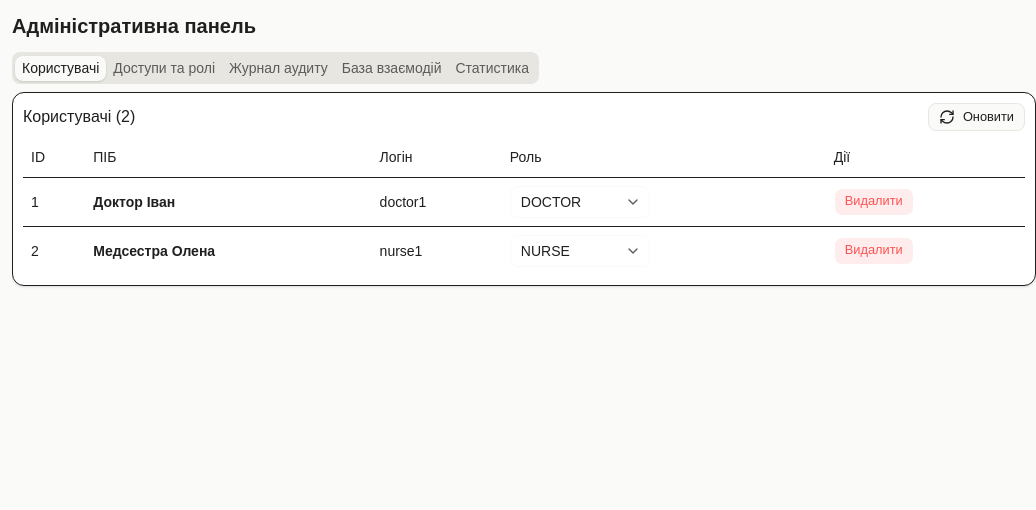
it: AdminPage › renders the interaction catalog summary and pair rows for admin (#305)
Click the tab "База взаємодій" at [392, 68], box [335,56,449,80]
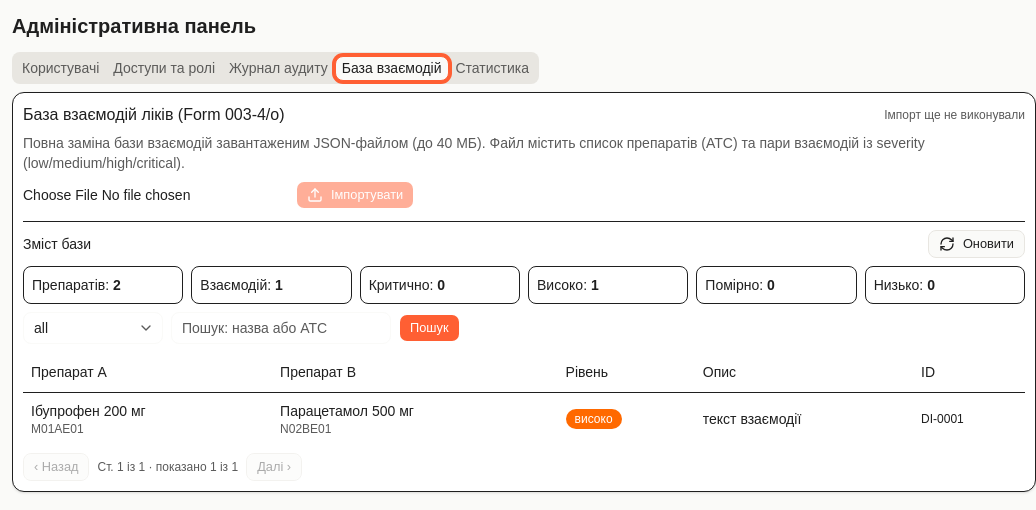
Result: the text "Парацетамол 500 мг" is shown at [280,402,414,418]
Result: the icon "високо" is shown at [566,409,622,429]
Result: the text "Ст. 1 із 1 · показано 1 із 1" is shown at [98,458,238,474]
